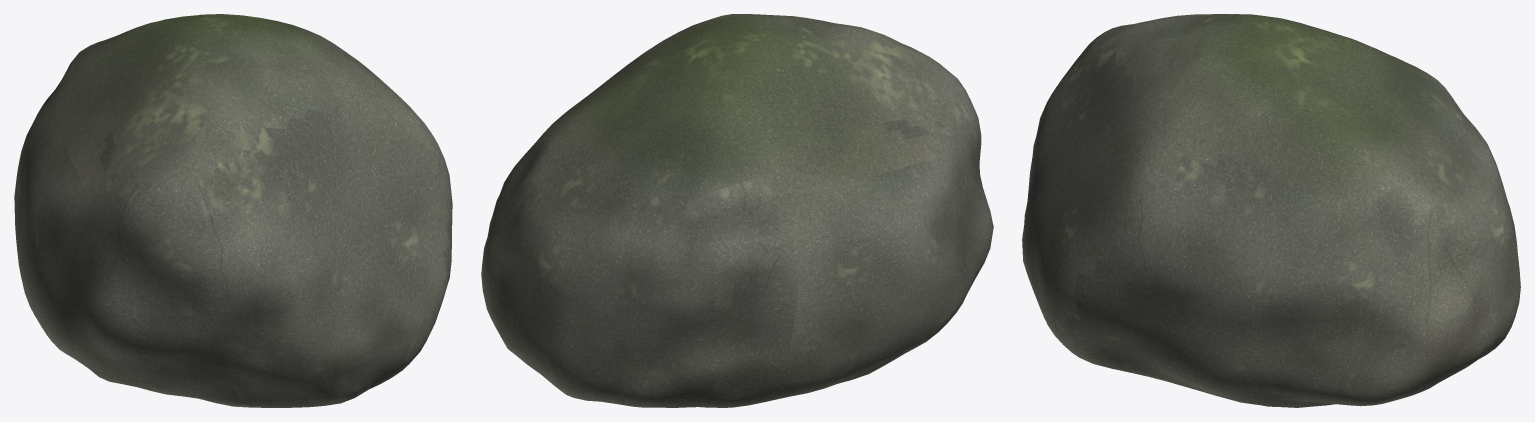
The model's file is bed_rock_c.gltf.
The picture shows the model from 3 angles, left to right: view 1: azimuth 30°, elevation 25°; view 2: azimuth 150°, elevation 25°; view 3: azimuth 270°, elevation 25°; orthographic projection. The views are drawn at different scales.
Parts seen in each view (by area): view 1: bed_rock_c_LOD0; view 2: bed_rock_c_LOD0; view 3: bed_rock_c_LOD0.
Boxes of the visible parts, x1,y1,x2,y2 form: bed_rock_c_LOD0: (14,14,452,407); bed_rock_c_LOD0: (481,14,993,407); bed_rock_c_LOD0: (1022,14,1520,407).
Size of what is drawn, in the model's own units: 0.3596 by 0.2793 by 0.3984.
Materials: 1 (1 with a texture image).
